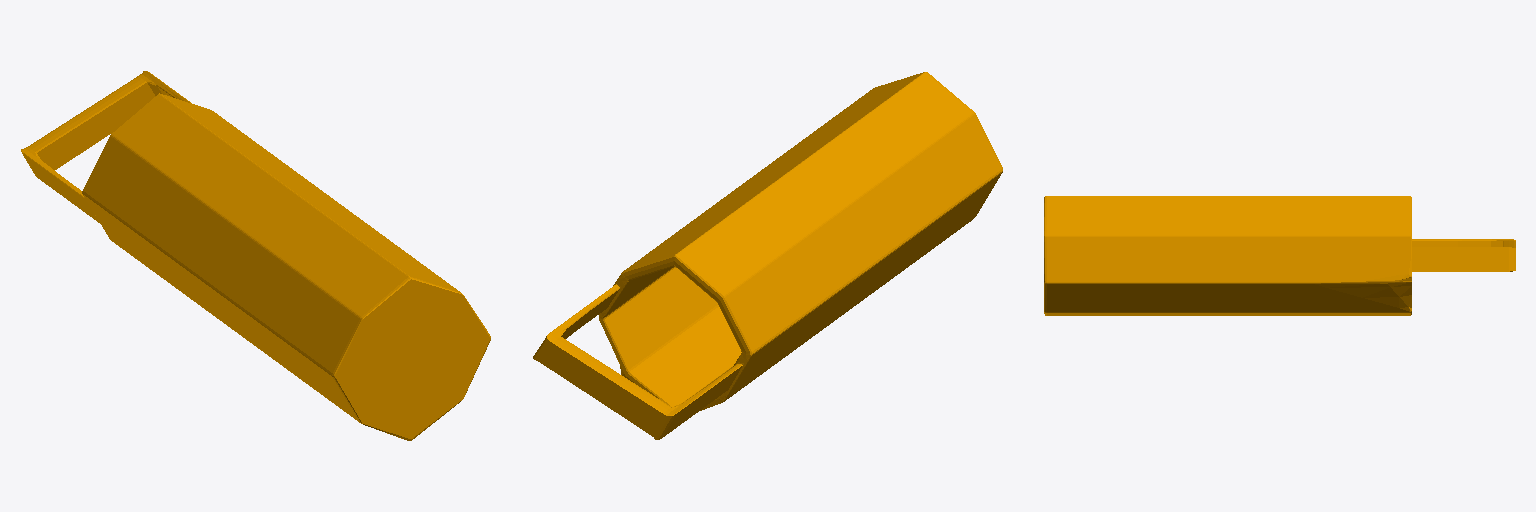
URDF robot description (295):
<?xml version="1.0" ?>
<robot name="295">
  <link name="body">
    <visual>
      <geometry>
        <mesh filename="../shapes/295.obj"/>
      </geometry>
    </visual>
    <collision>
      <geometry>
        <mesh filename="../shapes/295.obj"/>
      </geometry>
    </collision>
  </link>
</robot>

--- Facts derived from the render (not from the file) ---
3 views of the same robot in one strip: view 1: azimuth 30°, elevation 25°; view 2: azimuth 150°, elevation 25°; view 3: azimuth 270°, elevation 25° (orthographic).
Model 295 with 1 links and 0 joints (none), rooted at body, posed every joint at zero.
Links seen in each view (by area): view 1: body; view 2: body; view 3: body.
Boxes of the visible links, x1,y1,x2,y2 form: body: (21, 71, 490, 440); body: (533, 72, 1002, 439); body: (1044, 196, 1515, 315).
Size in the robot's own frame: 3.09 by 10.93 by 3.07 metres.
1 mesh visuals loaded from 1 distinct referenced files (1 OBJ).